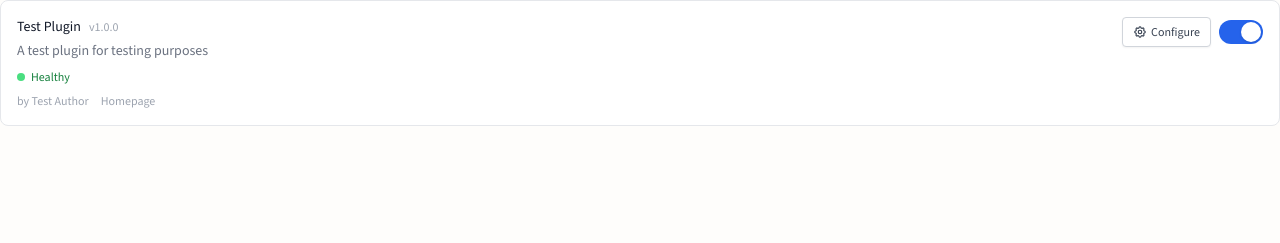
Test: PluginCard › enable/disable toggle › shows confirmation dialog when disabling an enabled plugin
Click the switch.
click(1241, 32)  # box top-left (1219, 20), bottom-right (1263, 44)
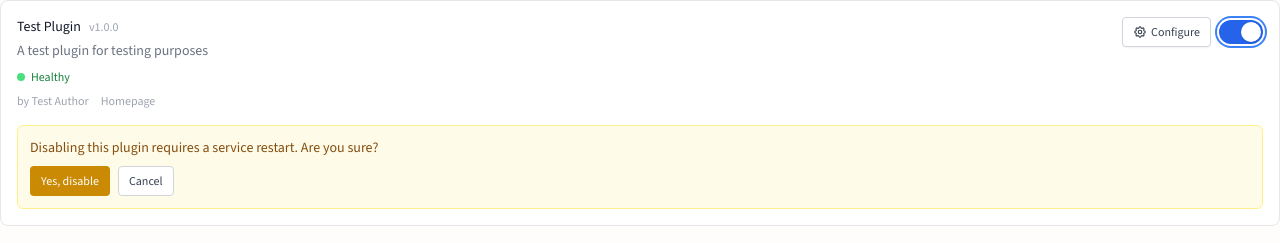
Check: the text "Disabling this plugin requires a service restart" is shown, box top-left (30, 138), bottom-right (378, 157)
Check: the button "Yes, disable" is shown, box top-left (30, 166), bottom-right (110, 196)
Check: the button "Cancel" is shown, box top-left (118, 166), bottom-right (174, 196)
